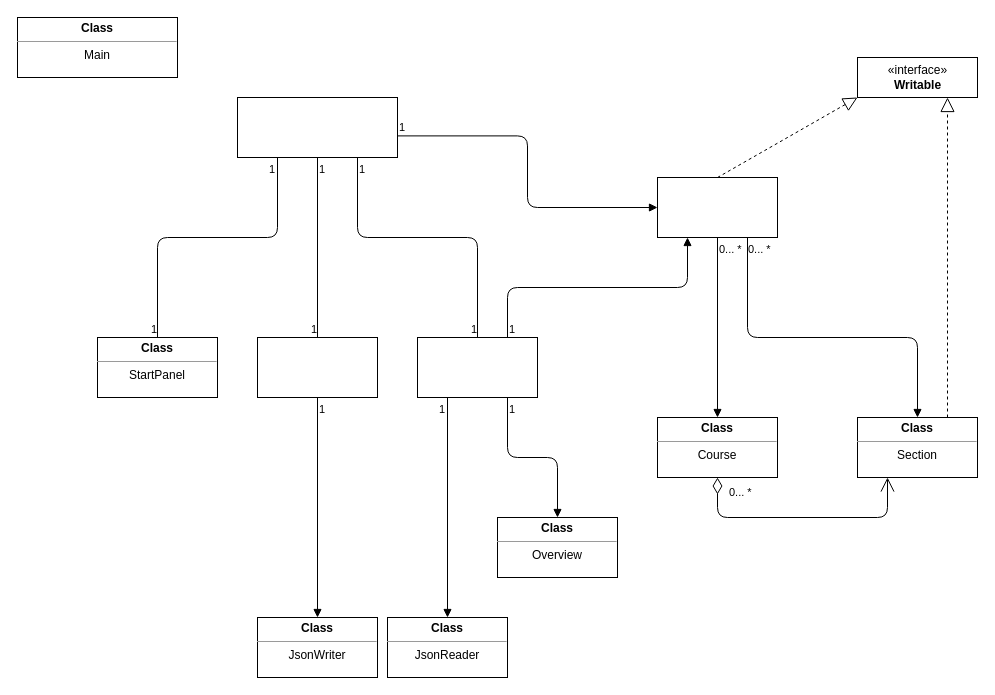
This 995x695 diagram has some shape labels left out. Here are the shapes that lost their labels. From the top down, the centre of each, then its label:
point 317,127: Class SchedulerApp
point 717,207: Class User
point 317,367: Class SchedulePanel
point 477,367: Class CoursePanel
